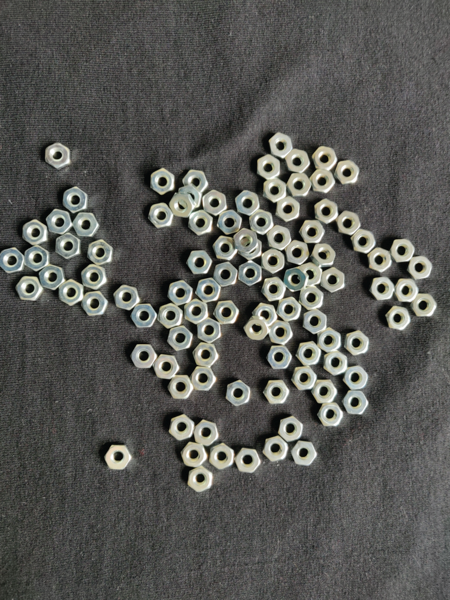nut: (15, 276, 44, 302), (39, 264, 66, 291), (81, 264, 108, 291), (87, 240, 114, 267), (55, 233, 82, 260), (63, 186, 89, 214), (45, 142, 71, 170), (181, 443, 208, 469), (291, 441, 318, 467), (193, 420, 219, 447), (169, 414, 195, 441), (153, 354, 180, 380), (24, 245, 50, 272), (46, 209, 73, 235), (235, 190, 261, 217), (202, 190, 228, 217), (170, 193, 197, 219), (104, 446, 132, 471), (263, 436, 289, 462), (278, 417, 304, 443), (157, 303, 183, 329), (22, 220, 48, 246), (167, 280, 193, 306), (336, 210, 362, 236), (351, 229, 377, 255), (285, 148, 311, 174), (188, 466, 213, 493), (226, 380, 251, 407), (192, 343, 219, 368), (113, 285, 140, 310), (59, 279, 84, 306), (73, 213, 100, 238), (276, 196, 301, 223), (268, 132, 293, 159), (1, 247, 25, 275), (151, 168, 175, 196), (209, 444, 234, 470), (235, 449, 261, 474), (343, 365, 369, 390), (344, 331, 370, 356), (277, 297, 302, 323), (213, 262, 239, 287), (261, 277, 287, 302), (284, 267, 310, 292), (368, 247, 393, 273), (267, 225, 292, 251), (212, 236, 238, 261), (249, 209, 274, 235), (149, 203, 174, 229), (287, 173, 313, 198), (312, 146, 338, 171), (131, 345, 158, 369), (190, 367, 217, 391), (263, 381, 290, 405), (342, 391, 369, 415), (311, 380, 338, 404), (131, 304, 158, 328), (81, 292, 108, 316), (266, 346, 293, 370), (318, 327, 342, 354), (197, 317, 221, 344), (244, 317, 271, 341), (315, 198, 339, 225), (234, 228, 258, 255), (263, 177, 287, 204), (168, 326, 193, 351), (297, 341, 322, 366), (196, 278, 221, 303), (299, 286, 324, 311), (408, 256, 433, 281), (386, 306, 411, 331), (217, 210, 242, 235), (168, 375, 194, 399), (317, 403, 343, 427), (292, 367, 318, 391), (324, 350, 348, 376), (303, 309, 327, 335), (187, 251, 213, 275), (322, 268, 346, 294), (300, 220, 326, 244), (390, 239, 416, 263), (286, 240, 310, 266), (189, 210, 213, 236), (179, 183, 203, 209), (310, 169, 336, 193), (257, 155, 281, 181), (239, 260, 262, 287), (214, 301, 239, 325), (269, 320, 293, 345), (253, 303, 278, 327), (311, 244, 336, 268), (370, 277, 395, 301), (335, 161, 360, 185), (185, 299, 208, 325), (411, 294, 437, 317), (262, 249, 285, 275), (182, 171, 209, 193), (299, 263, 323, 287), (395, 279, 419, 303), (238, 238, 262, 261)
